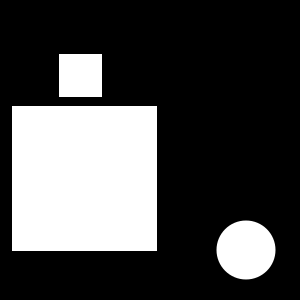circle: (12, 106, 157, 251), (59, 54, 102, 97)
rectangle: (216, 221, 275, 280)
